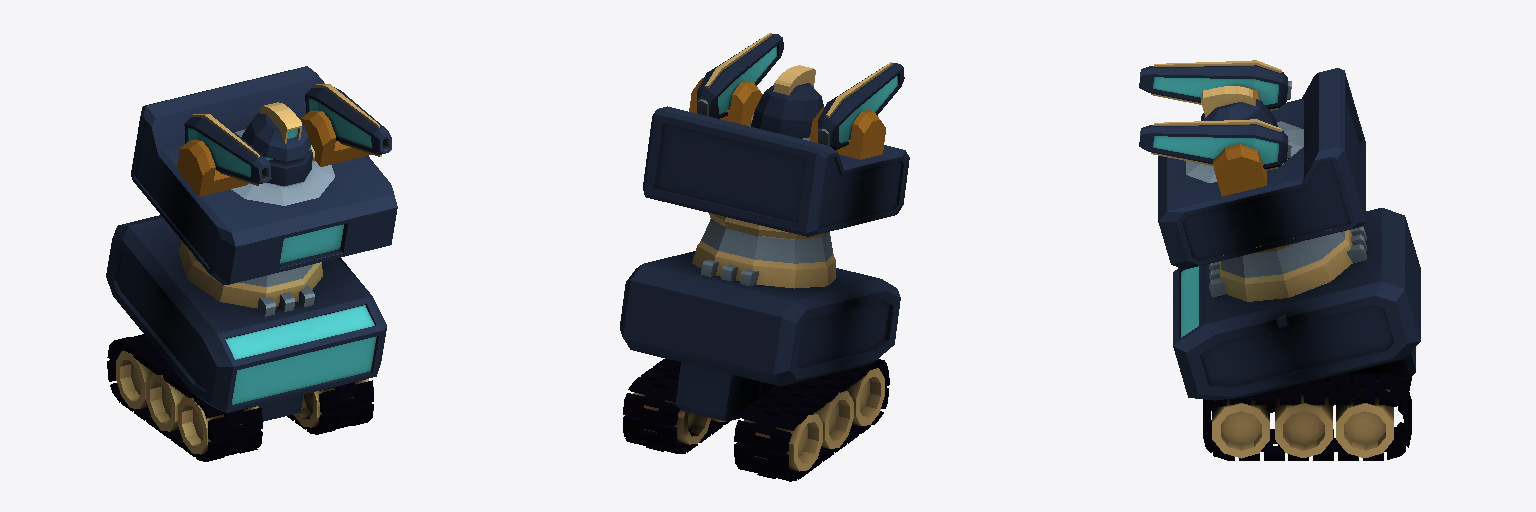
The picture shows the model from 3 angles: view 1: azimuth 30°, elevation 25°; view 2: azimuth 150°, elevation 25°; view 3: azimuth 270°, elevation 25°; orthographic projection.
Parts seen in each view (by area): view 1: Object020, Object013, Box031, Box032; view 2: Object020, Box031, Object013, Box032; view 3: Object020, Object013, Box032.
Part boxes in pixels (bbox=[...]): Object020: bbox=[106, 66, 397, 421]; Object013: bbox=[116, 351, 368, 454]; Box031: bbox=[107, 334, 262, 461]; Box032: bbox=[287, 379, 373, 434]; Object020: bbox=[620, 33, 909, 421]; Box031: bbox=[734, 359, 889, 481]; Object013: bbox=[633, 368, 884, 471]; Box032: bbox=[623, 359, 729, 453]; Object020: bbox=[1139, 60, 1420, 412]; Object013: bbox=[1212, 380, 1393, 458]; Box032: bbox=[1203, 374, 1411, 460].
Bounding box in the file's own units: 179 × 325 × 250.
4 materials, 2 textured.